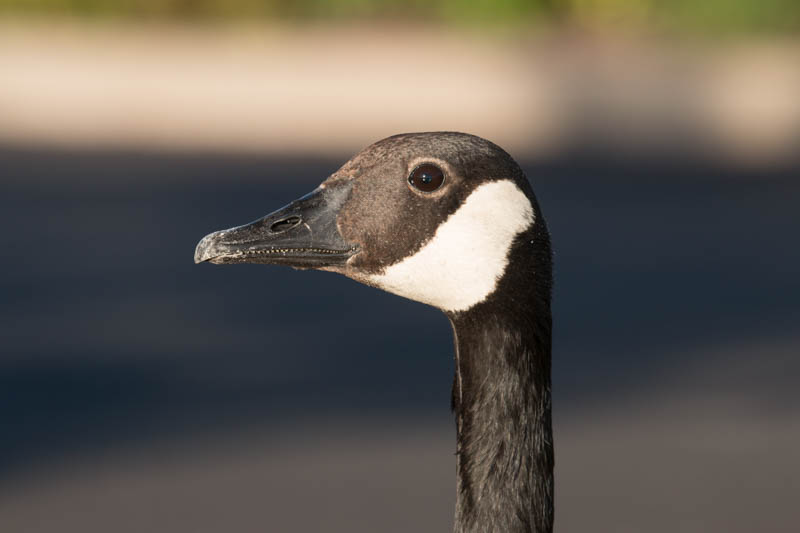goose-head: (192, 131, 553, 316)
